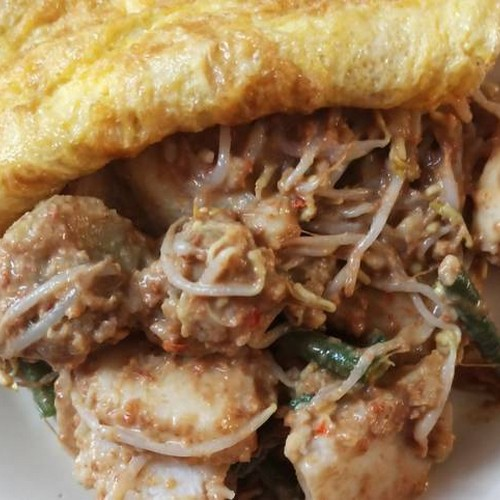tipat cantok: (18, 41, 477, 480)
